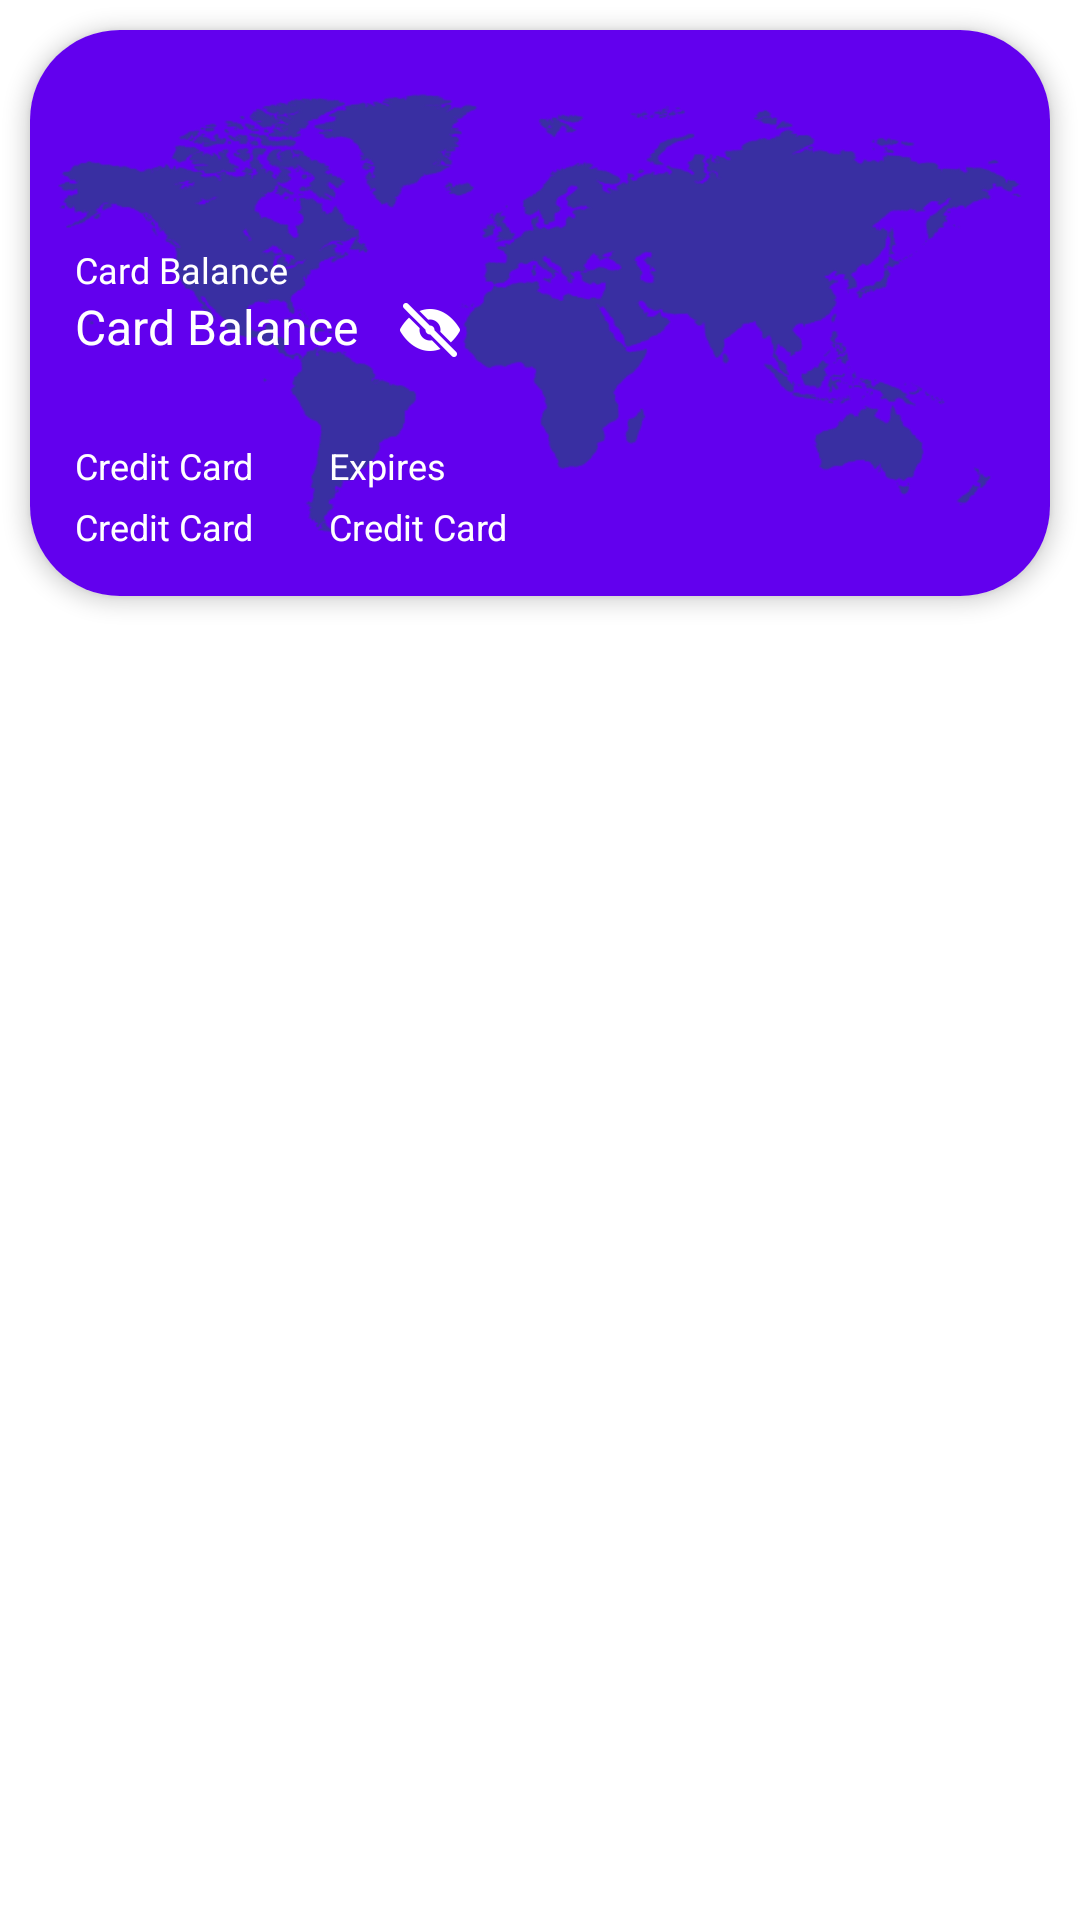

Icons on this 1080 × 1920 Android screen, each with the point to tap as point (x, y):
eye off: point (433, 330)
